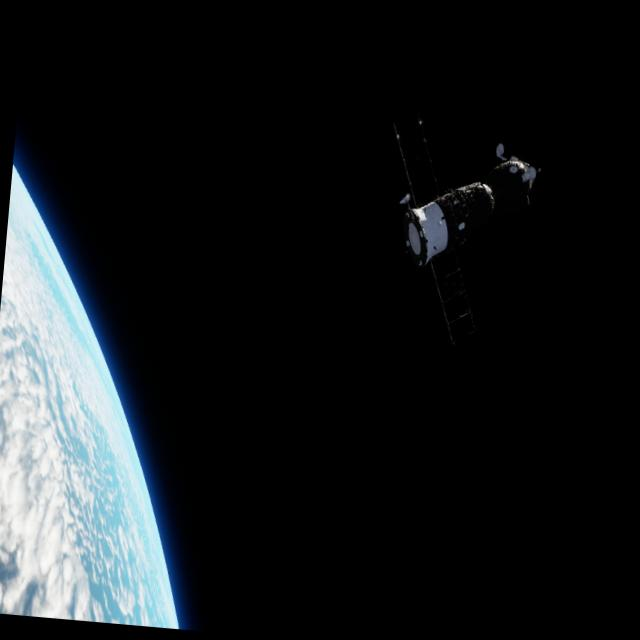Satellites revolving around earth: (0, 161, 218, 627), (370, 104, 545, 357)
